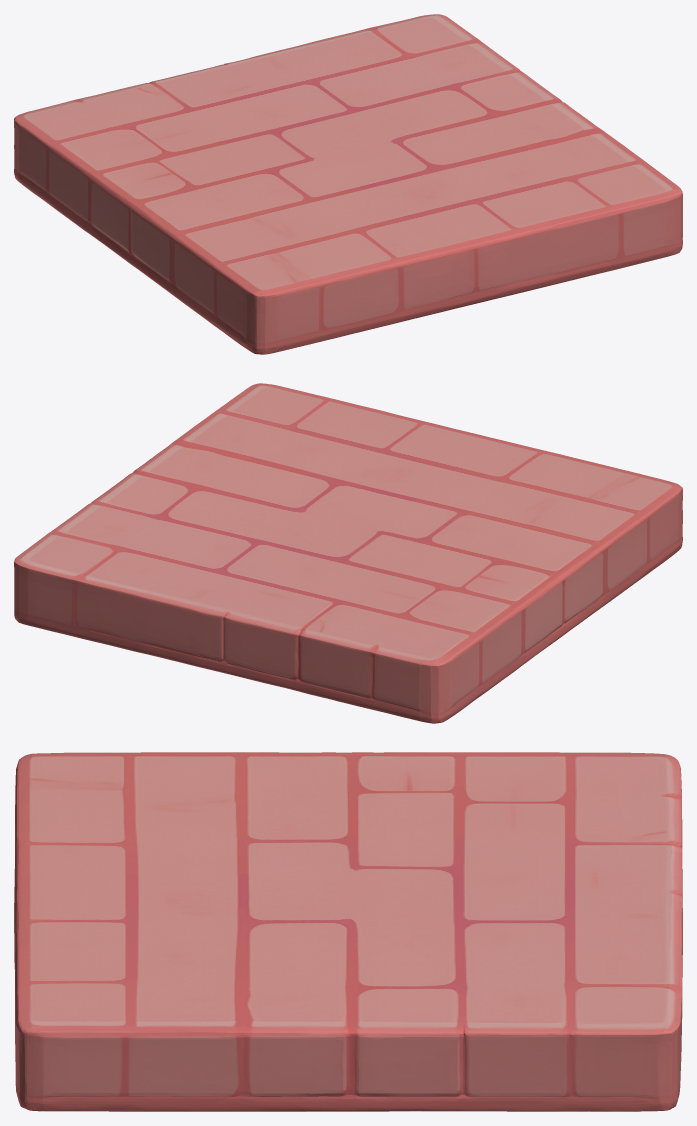
3 renders of one model, top to bottom at view 1: azimuth 30°, elevation 25°; view 2: azimuth 150°, elevation 25°; view 3: azimuth 270°, elevation 25°, orthographic. The views are drawn at different scales.
Visible parts, largest first — view 1: world; view 2: world; view 3: world.
Boxes of the visible parts, x1,y1,x2,y2 form: world: (14,14,682,354); world: (14,383,682,723); world: (14,752,682,1111).
Bounding box in the file's own units: 0.9955 × 0.1395 × 0.9981.
1 material, 1 textured.
